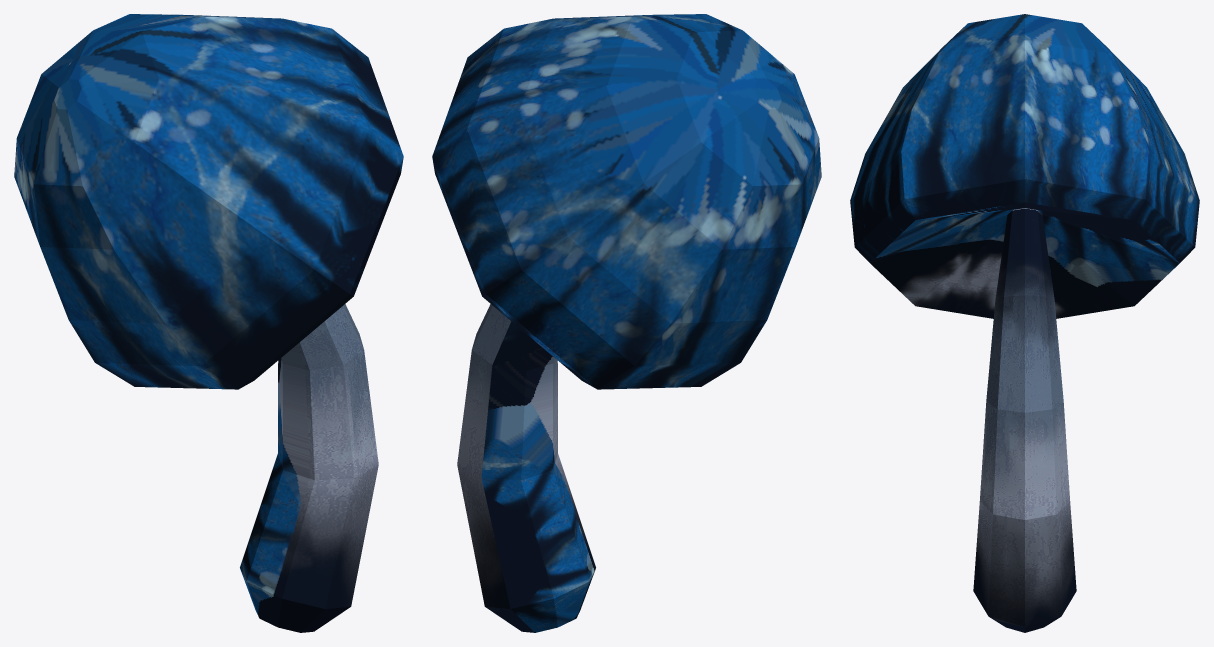
File: ThickMushroom.fbx
The picture shows the model from 3 angles, left to right: view 1: azimuth 30°, elevation 25°; view 2: azimuth 150°, elevation 25°; view 3: azimuth 270°, elevation 25°; orthographic projection. The views are drawn at different scales.
Visible parts, largest first — view 1: ThickMushroom; view 2: ThickMushroom; view 3: ThickMushroom.
Part boxes in pixels (box(x1,y1,x2,y2)): ThickMushroom: box(14, 14, 403, 632); ThickMushroom: box(432, 14, 821, 632); ThickMushroom: box(850, 14, 1199, 632).
Size of the model in its own units: 0.2607 by 0.2688 by 0.465.
Materials: 1 (1 with a texture image).
